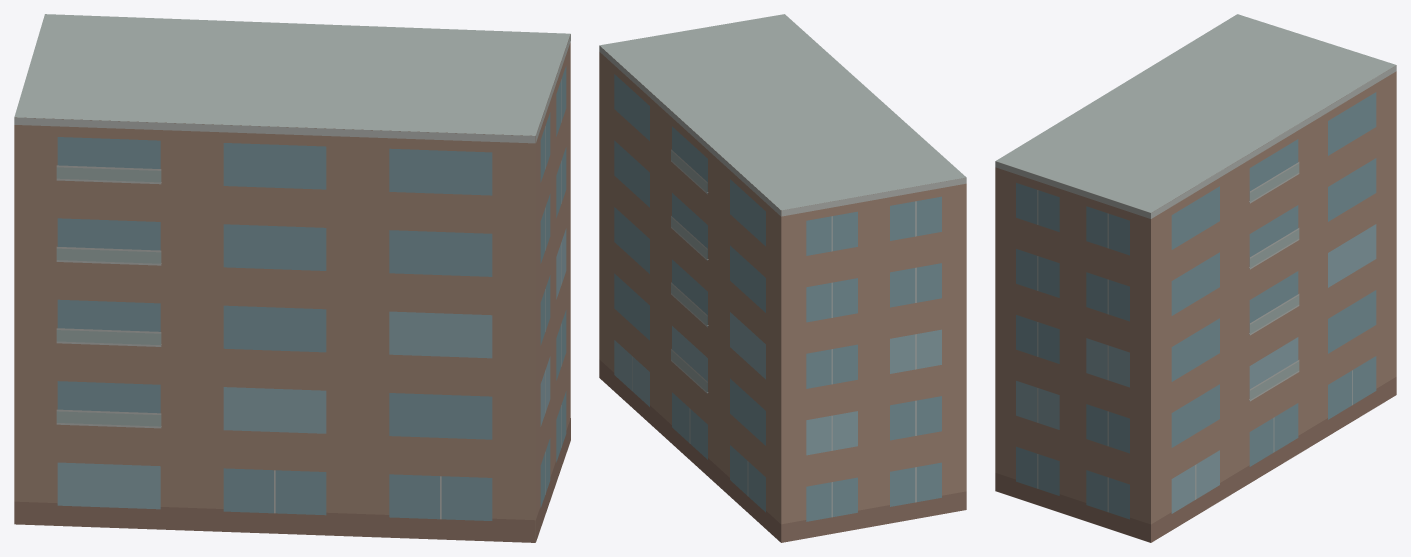
The model's file is survey-upis-32763076.glb.
3 views of the same model, side by side, from view 1: azimuth 30°, elevation 25°; view 2: azimuth 150°, elevation 25°; view 3: azimuth 270°, elevation 25° (orthographic). The views are drawn at different scales.
Parts seen in each view (by area): view 1: survey-upis-32763076.tmp; view 2: survey-upis-32763076.tmp; view 3: survey-upis-32763076.tmp.
Part boxes in pixels (bbox=[...]): survey-upis-32763076.tmp: bbox=[14, 14, 570, 542]; survey-upis-32763076.tmp: bbox=[599, 14, 966, 542]; survey-upis-32763076.tmp: bbox=[995, 14, 1396, 542].
Size of the model in its own units: 17.08 by 13.2 by 14.56.
